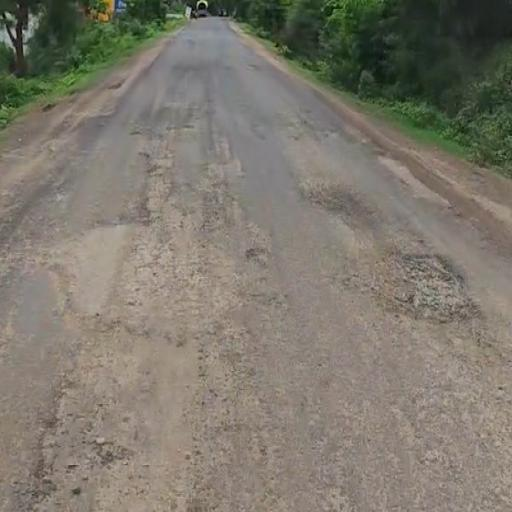ravelling: (49, 126, 294, 488), (310, 166, 483, 340)
